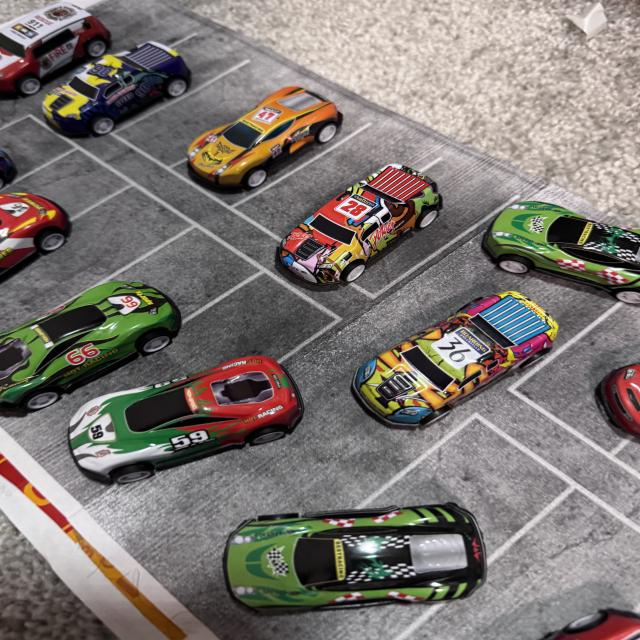car: (202, 515, 514, 640), (182, 38, 387, 221), (39, 378, 294, 501), (347, 292, 552, 424), (225, 169, 459, 282), (0, 276, 190, 394), (462, 186, 640, 298), (64, 39, 206, 150), (0, 180, 112, 312), (0, 0, 94, 119), (560, 326, 640, 430), (505, 608, 640, 639)
